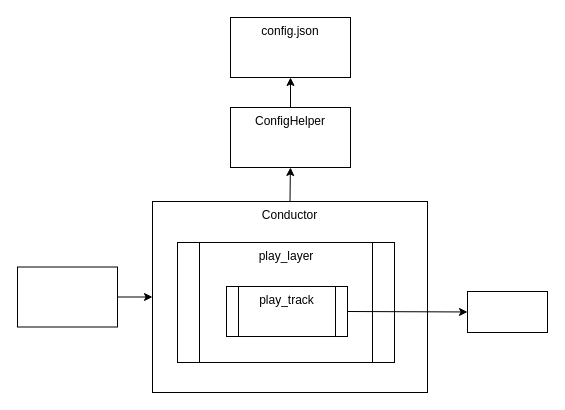
Some shapes in this 565 by 410 pixel diagram are drawn without their labels. The centre of each missing label's shape, as x and y in pixels:
main: point 67,296
Player: point 507,311
